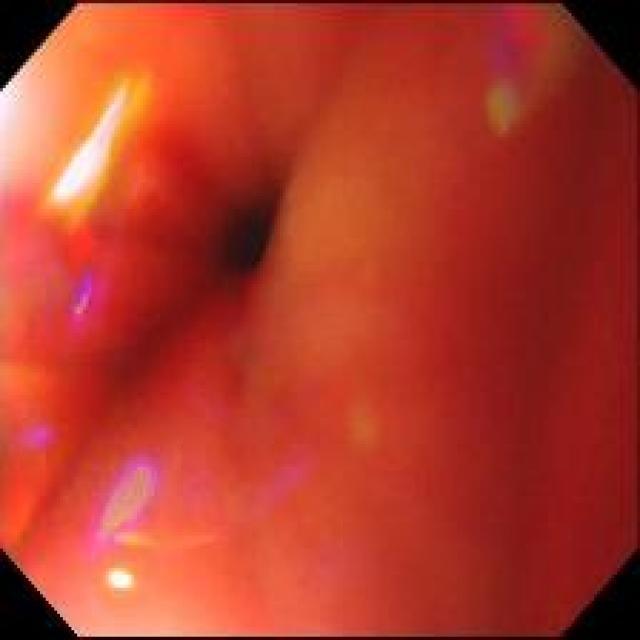blur: (1, 2, 638, 636)
color misalignment: (87, 454, 162, 557), (52, 224, 122, 331), (492, 7, 547, 61), (482, 72, 520, 143), (71, 268, 102, 313), (25, 413, 47, 451)
contrast: (207, 169, 289, 297)
specularity: (46, 76, 142, 220), (110, 571, 133, 597)
